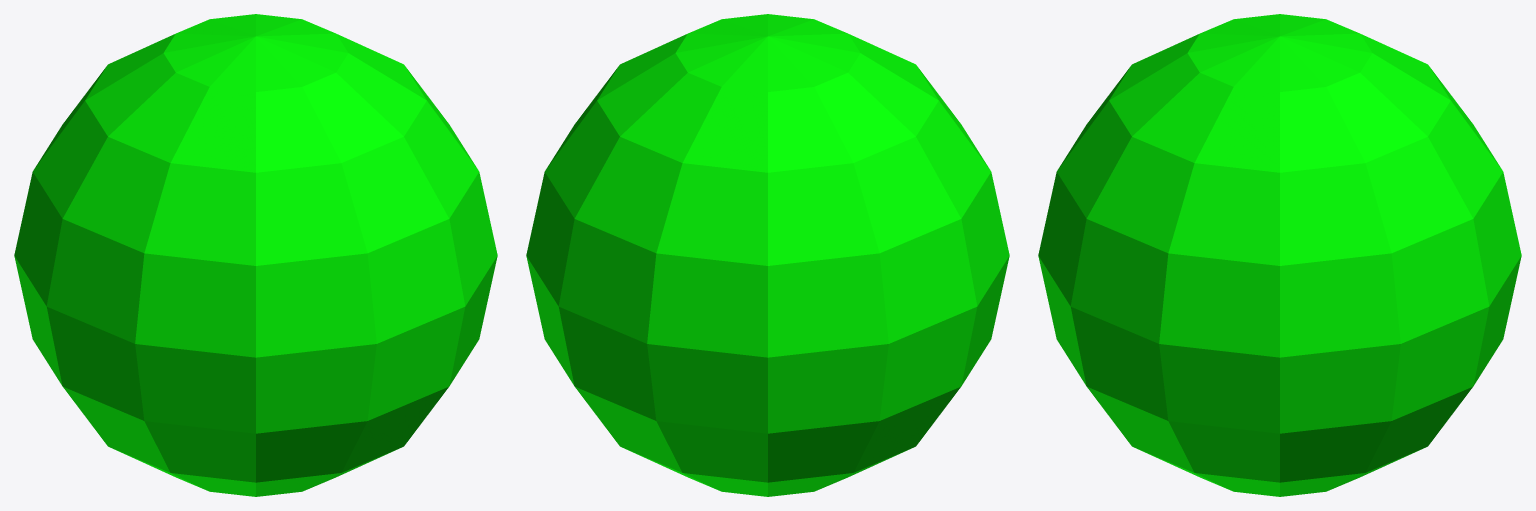
The model's file is recovery.obj.
The picture shows the model from 3 angles, left to right: view 1: azimuth 30°, elevation 25°; view 2: azimuth 150°, elevation 25°; view 3: azimuth 270°, elevation 25°; orthographic projection.
Parts seen in each view (by area): view 1: 球; view 2: 球; view 3: 球.
Part boxes in pixels (x1,y1,x2,y2): 球: (14, 14, 497, 496); 球: (526, 14, 1009, 496); 球: (1038, 14, 1521, 496).
Bounding box in the file's own units: 2 × 2 × 2.
1 material, 1 textured.
